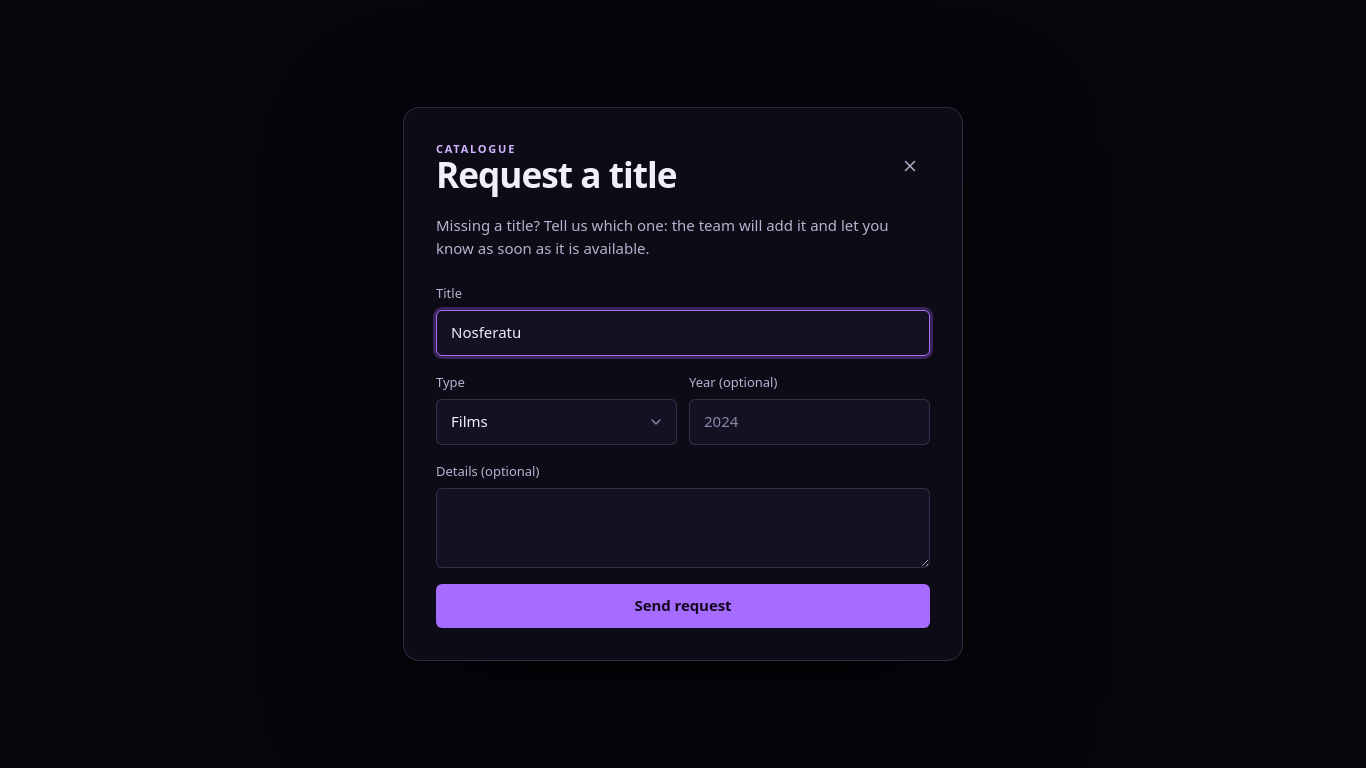
RequestDialog : messages d'erreur › un refus du limiteur sans corps donne un message de limite, pas « Erreur inattendue »
The image size is (1366, 768).
Click the button "Send request": (683, 606) [436,584,930,628]
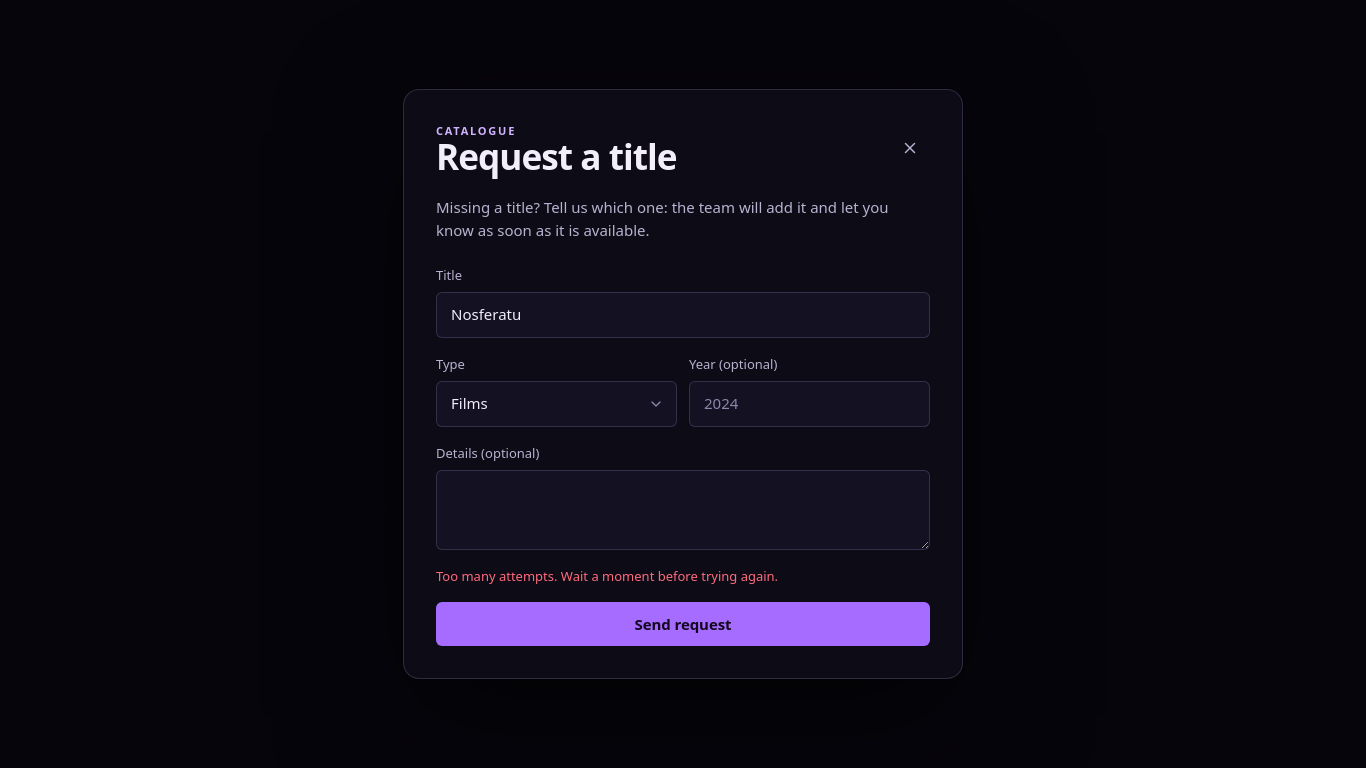
Now the message reads "Too many attempts. Wait a moment before trying again.", box [436,567,778,585]
